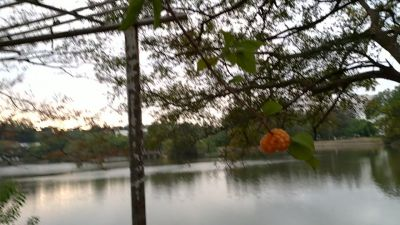eggs: (258, 127, 291, 155)
